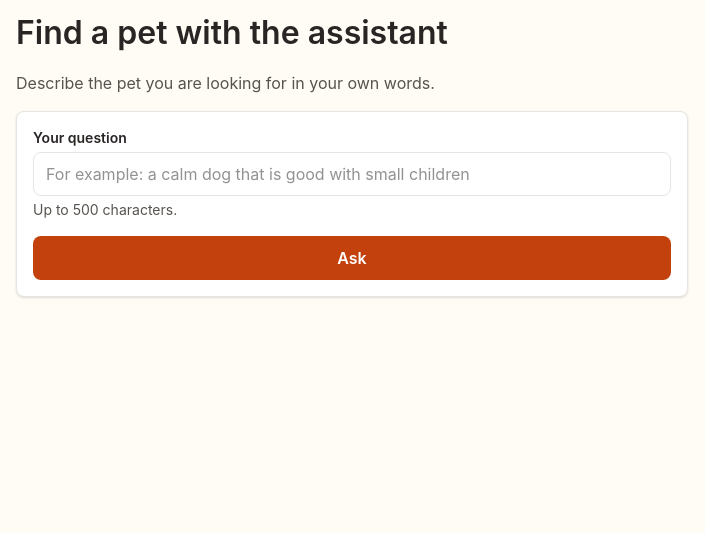
Test: AssistantPage › sends only one request on a double Enter
Type "a calm dog" into the field labelled "Your question" at (352, 174), box [33, 152, 671, 196]
Then press Enter, Enter
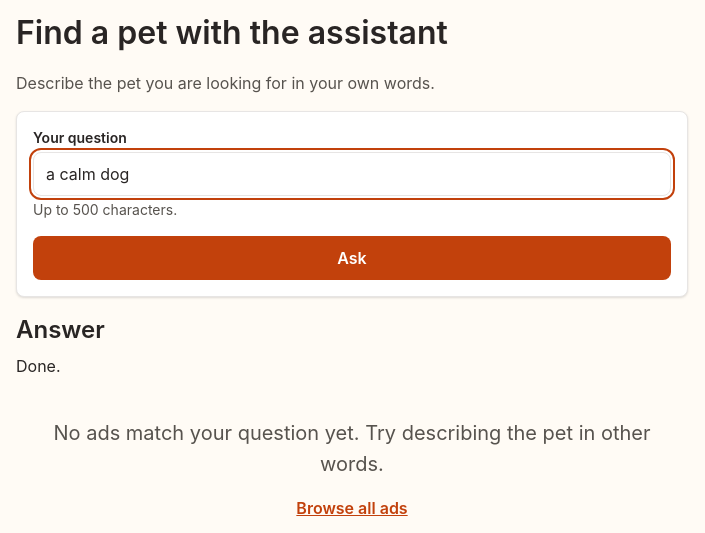
Expected: the text "Done." is shown, [16, 356, 60, 376]
